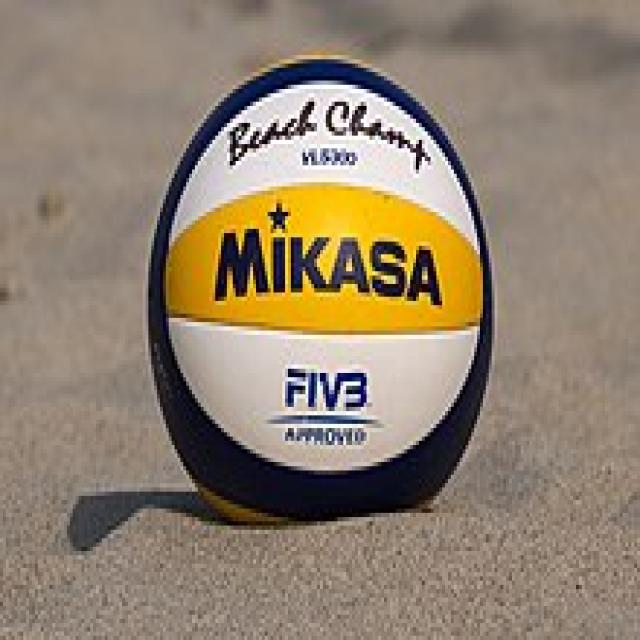Volleyball: (146, 50, 493, 533)
